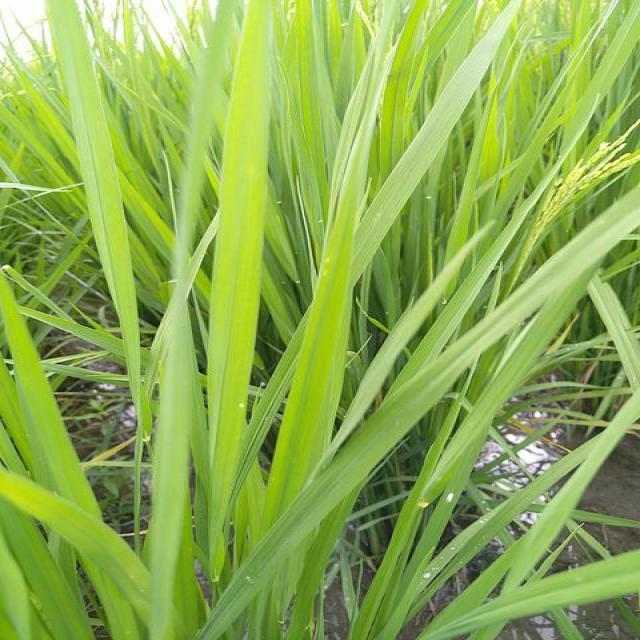Rice: (374, 184, 640, 404), (48, 0, 155, 395), (210, 0, 276, 560), (0, 474, 197, 639), (385, 2, 525, 183), (274, 407, 437, 560), (286, 127, 373, 406), (525, 401, 639, 548), (480, 551, 640, 639), (0, 394, 80, 475), (0, 268, 47, 390), (419, 582, 482, 640)
